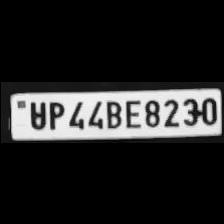0: (198, 94, 218, 124)
2: (160, 95, 180, 127)
3: (180, 94, 198, 126)
4: (65, 97, 85, 129), (85, 97, 103, 129)
8: (142, 96, 160, 126)
B: (102, 97, 120, 128)
E: (122, 96, 142, 128)
P: (44, 98, 64, 130)
U: (24, 98, 46, 128)
